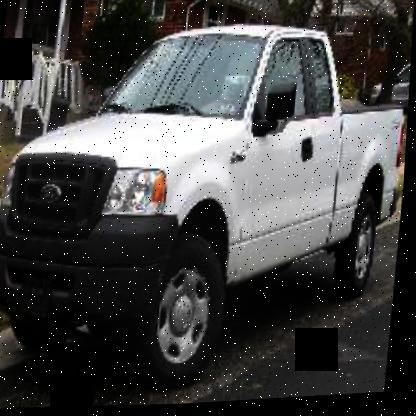not_emergency: (0, 2, 408, 398)
